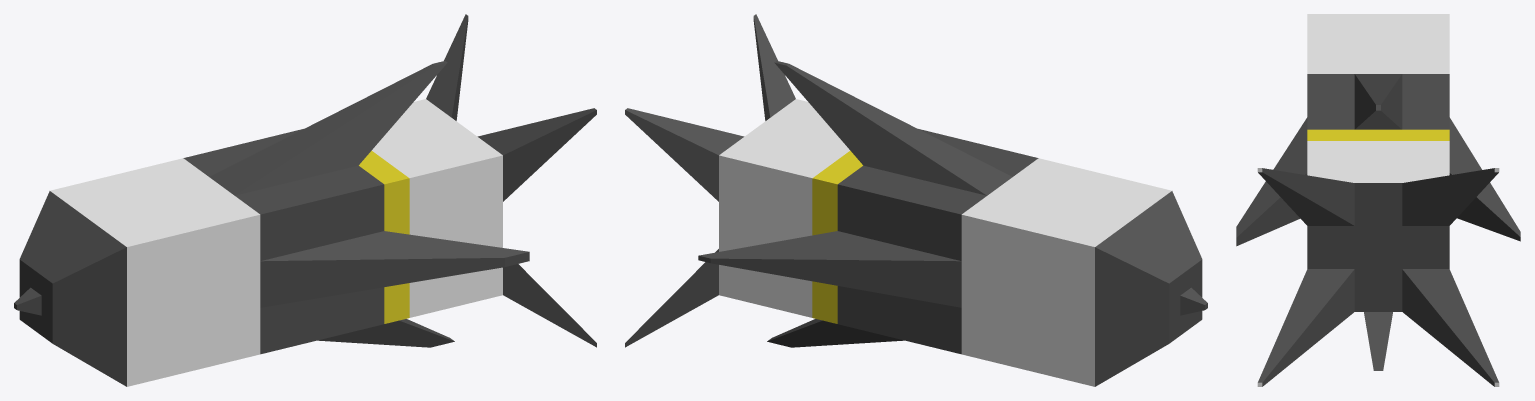
The model's file is MissileModel.fbx.
3 views of the same model, side by side, from view 1: azimuth 30°, elevation 25°; view 2: azimuth 150°, elevation 25°; view 3: azimuth 270°, elevation 25° (orthographic). The views are drawn at different scales.
Visible parts, largest first — view 1: Cube; view 2: Cube; view 3: Cube.
Boxes of the visible parts, x1=… form: Cube: x1=14, y1=14, x2=596, y2=386; Cube: x1=625, y1=14, x2=1207, y2=386; Cube: x1=1236, y1=14, x2=1520, y2=386.
Bounding box in the file's own units: 772 × 400 × 400.
